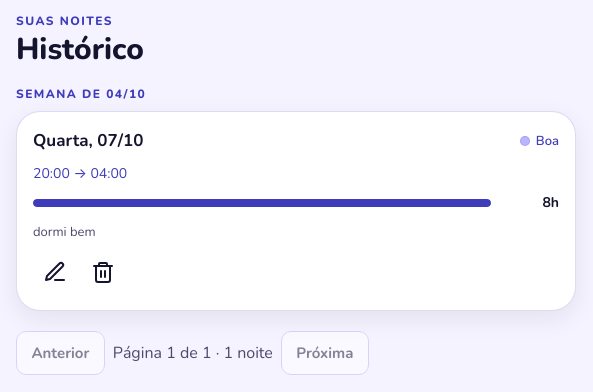
Scenario: tela de Histórico › exclui um registro depois da confirmação
Click the button named "Excluir" at x=103, y=272, box [81, 250, 125, 294]
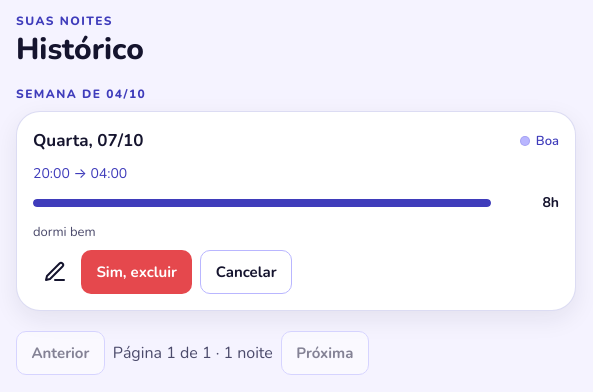
Click the button "Sim, excluir" at x=137, y=272, box [81, 250, 192, 294]
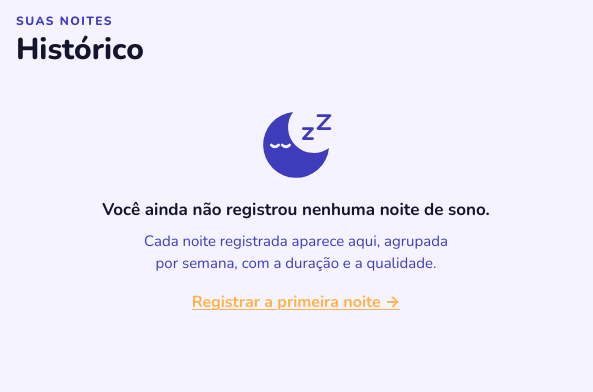
Now the text "Você ainda não registrou nenhuma noite de sono." is shown, box [102, 197, 490, 223]
